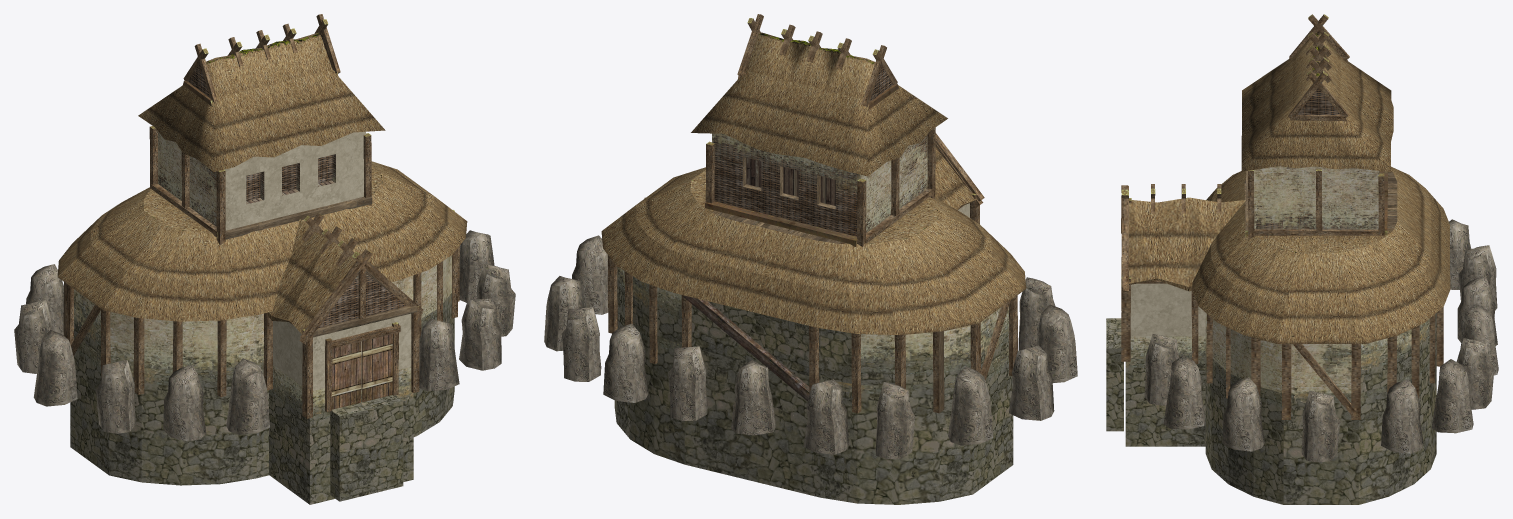
File: temple.dae
3 views of the same model, side by side, from view 1: azimuth 30°, elevation 25°; view 2: azimuth 150°, elevation 25°; view 3: azimuth 270°, elevation 25° (orthographic). The views are drawn at different scales.
Visible parts, largest first — view 1: temple; view 2: temple; view 3: temple.
Boxes of the visible parts, x1,y1,x2,y2 form: temple: (14,14,515,504); temple: (544,14,1077,504); temple: (1106,14,1498,504).
Bounding box in the file's own units: 30.19 × 22.93 × 24.43.
